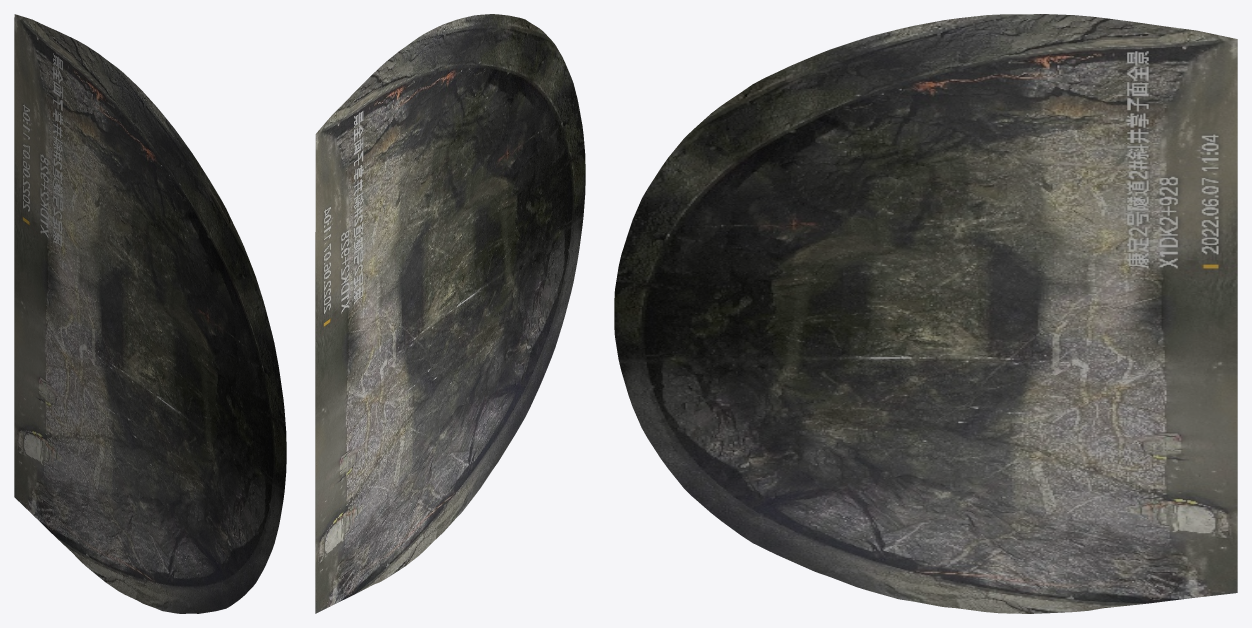
3 renders of one model, left to right at view 1: azimuth 30°, elevation 25°; view 2: azimuth 150°, elevation 25°; view 3: azimuth 270°, elevation 25°, orthographic. The views are drawn at different scales.
Visible parts, largest first — view 1: Node; view 2: Node; view 3: Node.
Boxes of the visible parts, x1,y1,x2,y2 form: Node: (14, 14, 286, 613); Node: (315, 14, 585, 613); Node: (614, 14, 1237, 613).
Size of the model in its own units: 0 by 9.55 by 9.
Materials: 1 (1 with a texture image).
